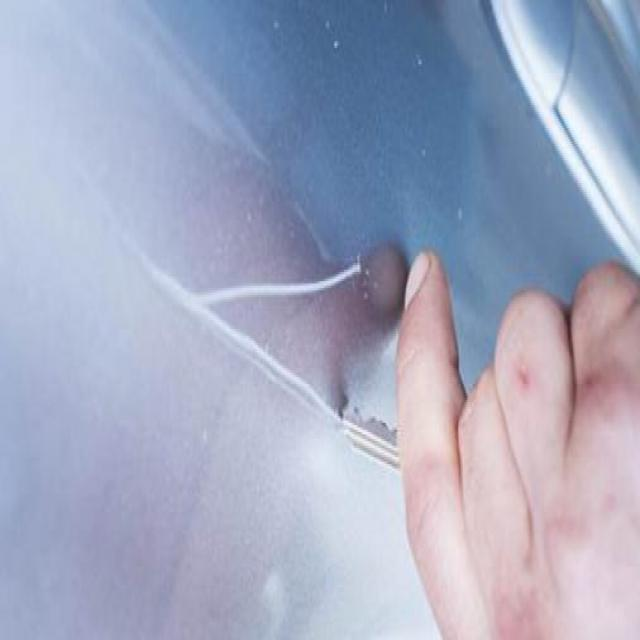scratch: (166, 250, 372, 319), (212, 349, 336, 414)
